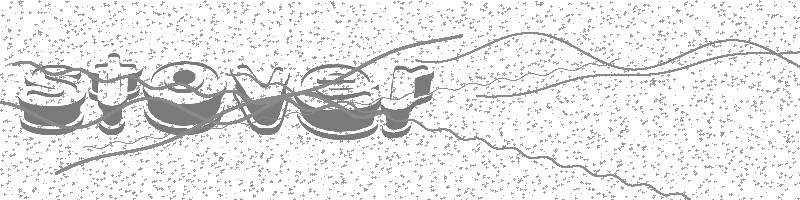e: (292, 60, 380, 142)
o: (141, 59, 227, 134)
r: (379, 63, 435, 140)
s: (15, 61, 89, 136)
t: (89, 50, 142, 136)
v: (227, 58, 291, 137)
